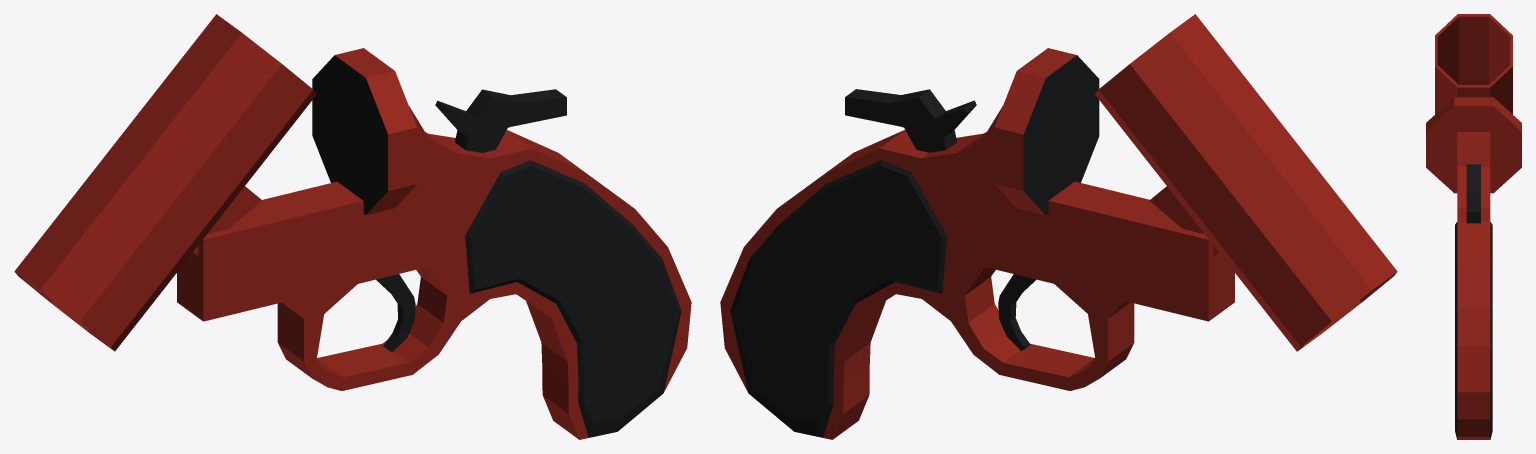
The model's file is Flare_Gun.gltf.
3 views of the same model, side by side, from view 1: azimuth 30°, elevation 25°; view 2: azimuth 150°, elevation 25°; view 3: azimuth 270°, elevation 25° (orthographic). The views are drawn at different scales.
Parts seen in each view (by area): view 1: Flare_Gun, Barrel_Flare_Gun; view 2: Flare_Gun, Barrel_Flare_Gun; view 3: Flare_Gun, Barrel_Flare_Gun.
Boxes of the visible parts, <box> form: Flare_Gun: <box>177,48,691,439</box>; Barrel_Flare_Gun: <box>14,14,316,351</box>; Flare_Gun: <box>720,48,1234,439</box>; Barrel_Flare_Gun: <box>1095,14,1397,351</box>; Flare_Gun: <box>1426,97,1521,439</box>; Barrel_Flare_Gun: <box>1435,14,1512,114</box>.
Size of the model in its own units: 0.276 by 0.1985 by 0.0555.
